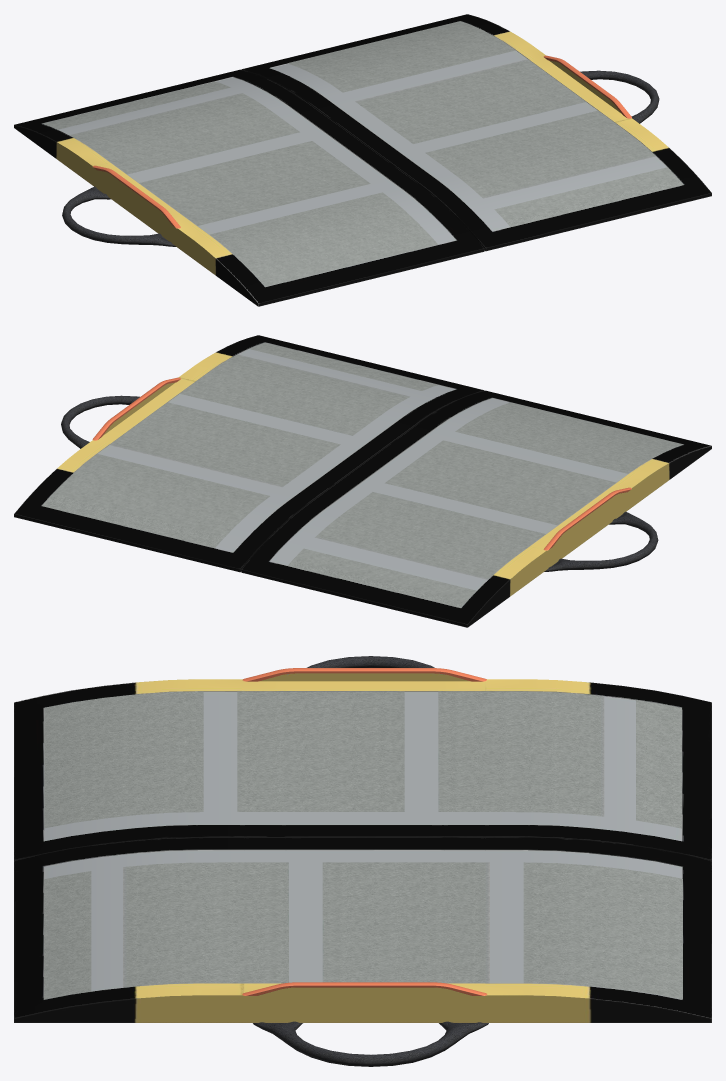
Rendered from ケアスロープ_65x70.glb.
3 views of the same model, one above another, from view 1: azimuth 30°, elevation 25°; view 2: azimuth 150°, elevation 25°; view 3: azimuth 270°, elevation 25° (orthographic). The views are drawn at different scales.
Visible parts, largest first — view 1: Cube.005, Cube.001; view 2: Cube.005, Cube.001; view 3: Cube.005, Cube.001.
Part boxes in pixels (x1,y1,x2,y2): Cube.005: (14,14,711,306); Cube.001: (62,70,659,246); Cube.005: (14,335,711,627); Cube.001: (61,395,658,571); Cube.005: (14,668,711,1022); Cube.001: (253,656,488,1066).
Size of the model in its own units: 0.891 by 0.0468 by 0.65.
Materials: 1 (1 with a texture image).
